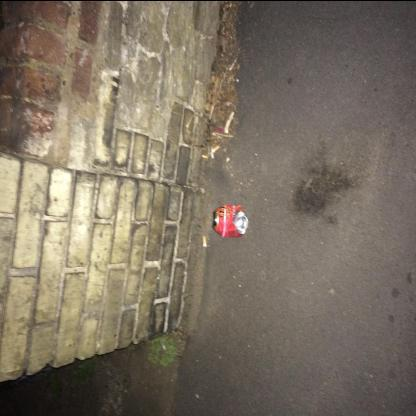metal: (213, 205, 250, 239)
